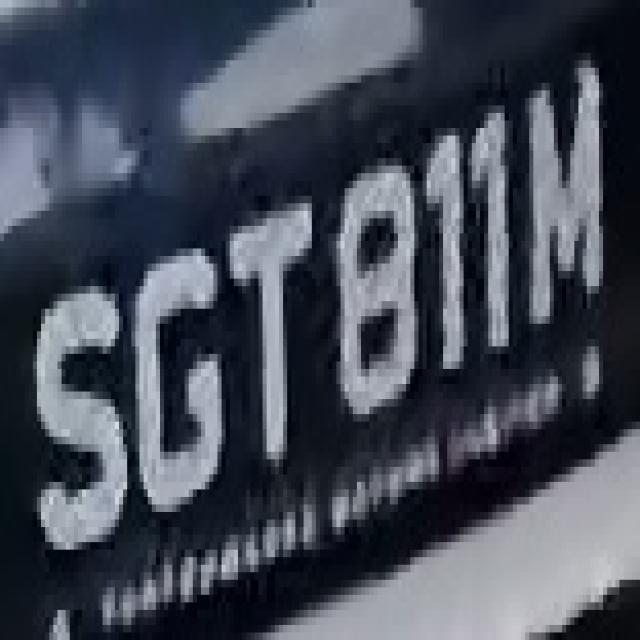1: (427, 98, 476, 406), (468, 68, 517, 376)
8: (316, 166, 427, 422)
G: (115, 241, 226, 519)
M: (517, 53, 619, 361)
S: (33, 256, 135, 557)
T: (209, 188, 324, 490)
